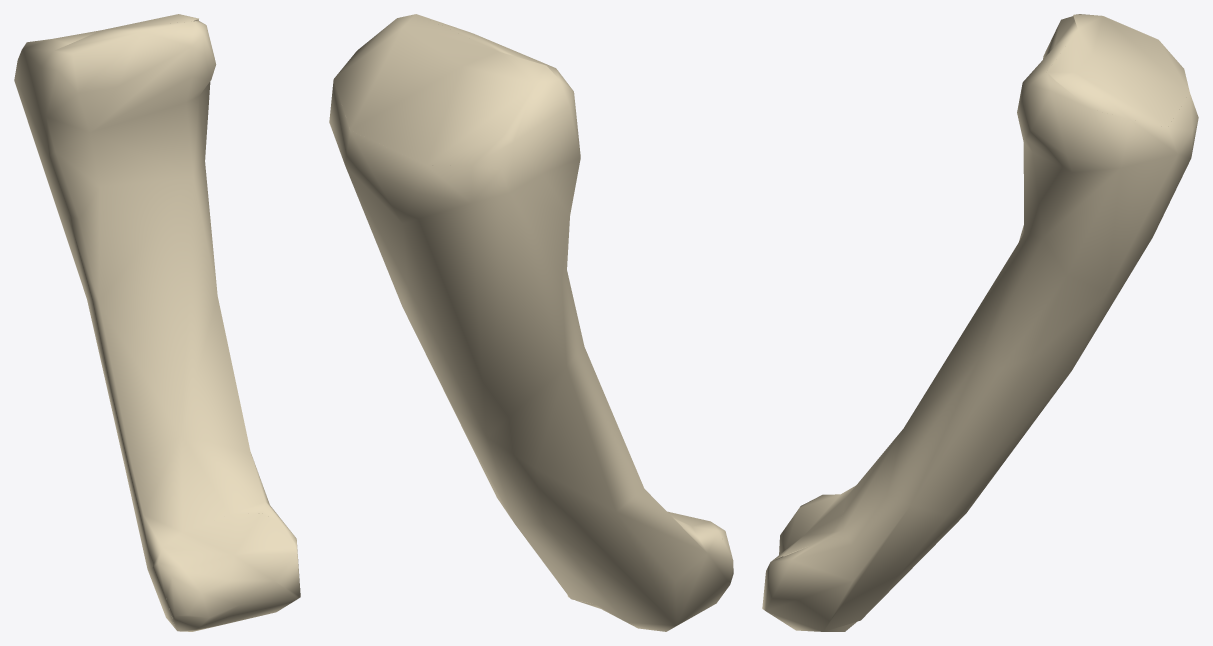
The model's file is esqueleto-proximal-phalanx-of-fourth-finger-of-hand-r.glb.
The picture shows the model from 3 angles, left to right: view 1: azimuth 30°, elevation 25°; view 2: azimuth 150°, elevation 25°; view 3: azimuth 270°, elevation 25°; orthographic projection. The views are drawn at different scales.
Parts seen in each view (by area): view 1: Proximal phalanx of fourth finger of hand.r; view 2: Proximal phalanx of fourth finger of hand.r; view 3: Proximal phalanx of fourth finger of hand.r.
Part boxes in pixels (<box>): Proximal phalanx of fourth finger of hand.r: <box>14,14,300,631</box>; Proximal phalanx of fourth finger of hand.r: <box>329,14,733,631</box>; Proximal phalanx of fourth finger of hand.r: <box>762,14,1198,631</box>.
Size of the model in its own units: 0.0139 by 0.0403 by 0.0272.
